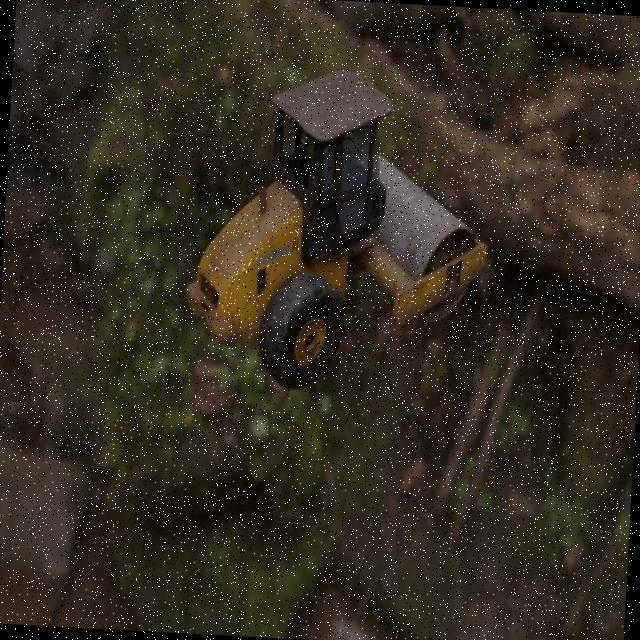Roller: (180, 62, 496, 400)
